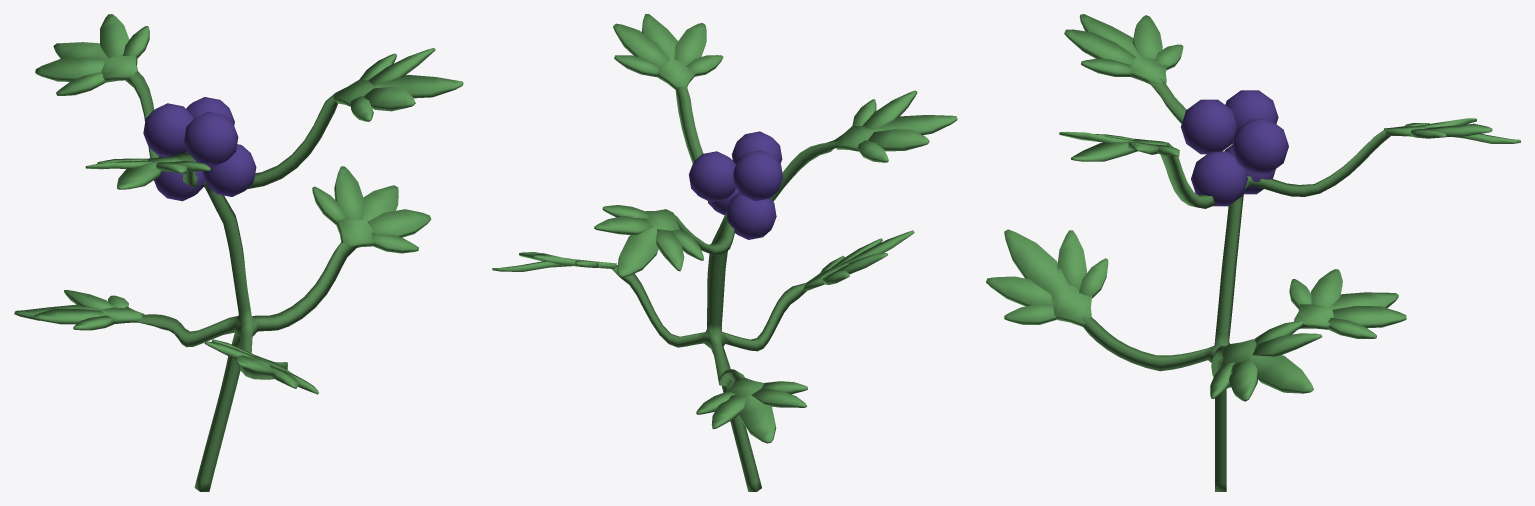
The model's file is zaza2.fbx.
3 renders of one model, left to right at view 1: azimuth 30°, elevation 25°; view 2: azimuth 150°, elevation 25°; view 3: azimuth 270°, elevation 25°, orthographic. The views are drawn at different scales.
Parts seen in each view (by area): view 1: Plant, Icosphere, polySurface7, polySurface1, polySurface13, polySurface29, polySurface19, polySurface30; view 2: Plant, Icosphere, polySurface13, polySurface19, polySurface1, polySurface29, polySurface30, polySurface7; view 3: Plant, Icosphere, polySurface30, polySurface7, polySurface19, polySurface29, polySurface13, polySurface1.
Part boxes in pixels (left/top/right/bottom): Plant: left=125, top=71, right=358, bottom=491; Icosphere: left=143, top=97, right=256, bottom=201; polySurface7: left=312, top=166, right=431, bottom=253; polySurface1: left=35, top=14, right=149, bottom=95; polySurface13: left=333, top=48, right=463, bottom=121; polySurface29: left=14, top=290, right=144, bottom=330; polySurface19: left=85, top=156, right=210, bottom=189; polySurface30: left=204, top=339, right=318, bottom=394; Plant: left=612, top=86, right=839, bottom=491; Icosphere: left=688, top=131, right=783, bottom=239; polySurface13: left=613, top=14, right=723, bottom=89; polySurface19: left=834, top=90, right=957, bottom=162; polySurface1: left=594, top=205, right=703, bottom=277; polySurface29: left=696, top=377, right=807, bottom=443; polySurface30: left=804, top=230, right=914, bottom=291; polySurface7: left=492, top=252, right=616, bottom=271; Plant: left=1081, top=78, right=1390, bottom=491; Icosphere: left=1181, top=90, right=1288, bottom=206; polySurface30: left=986, top=229, right=1108, bottom=326; polySurface7: left=1210, top=320, right=1322, bottom=401; polySurface19: left=1064, top=14, right=1183, bottom=84; polySurface29: left=1289, top=269, right=1406, bottom=338; polySurface13: left=1059, top=131, right=1179, bottom=161; polySurface1: left=1384, top=118, right=1520, bottom=143.
Size of the model in its own units: 478 by 497 by 550.
